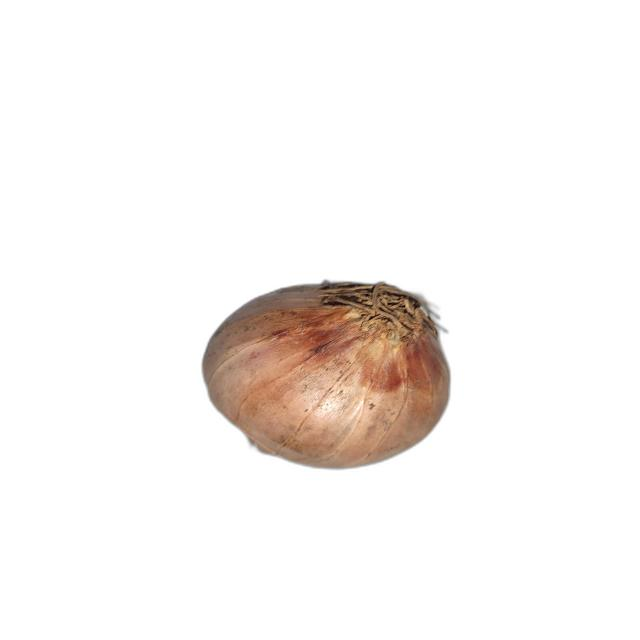onion: (201, 279, 452, 472)
